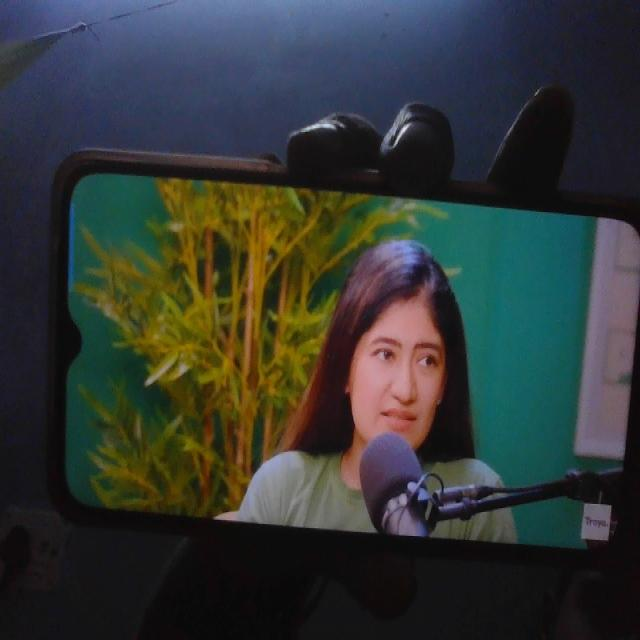fake: (333, 236, 457, 471)
